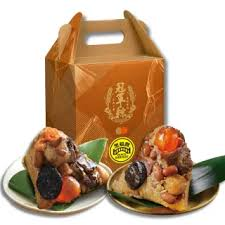zongzi: (110, 125, 192, 209), (24, 128, 108, 208)
